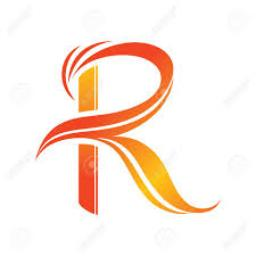r: (65, 34, 197, 218)
